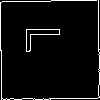L: (25, 25, 70, 54)
